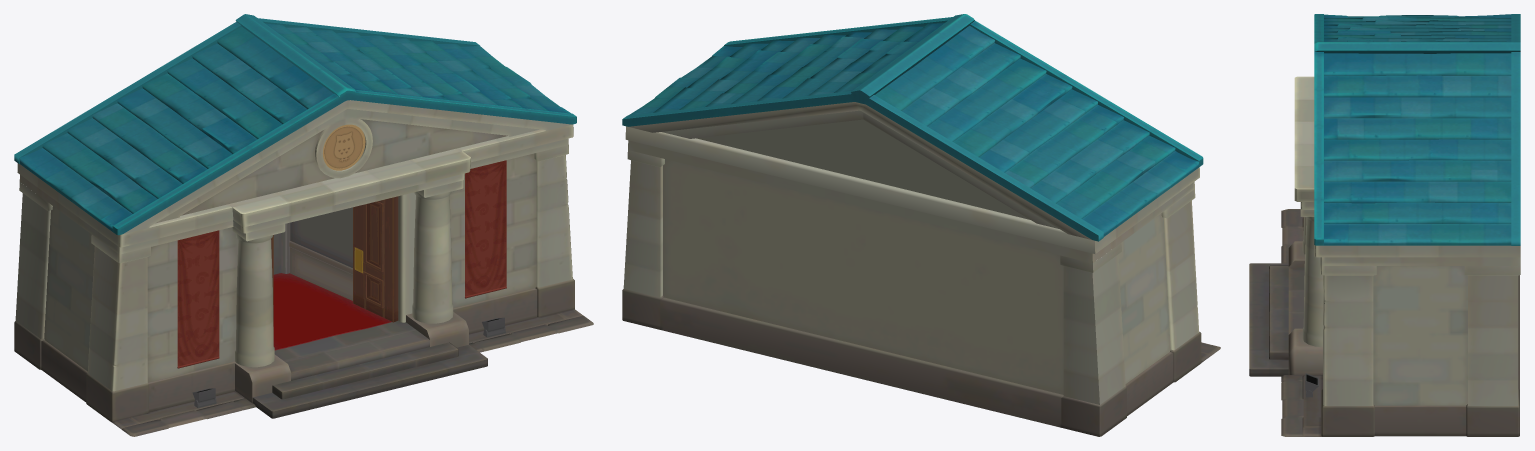
File: oracle-museum.glb
3 renders of one model, left to right at view 1: azimuth 30°, elevation 25°; view 2: azimuth 150°, elevation 25°; view 3: azimuth 270°, elevation 25°, orthographic. The views are drawn at different scales.
Visible parts, largest first — view 1: EdgeA_low__mWall, Left1_low__mRoof, CL1base__mLobby, Tapestry1_group1173_pCube1420__mTapestry, Mark_low__mMedallion, polySurface1169__mLight; view 2: EdgeA_low__mWall, Left1_low__mRoof; view 3: EdgeA_low__mWall, Left1_low__mRoof.
Boxes of the visible parts, left/top/right/bottom form: EdgeA_low__mWall: left=14, top=100, right=593, bottom=436; Left1_low__mRoof: left=14, top=14, right=576, bottom=235; CL1base__mLobby: left=271, top=196, right=398, bottom=350; Tapestry1_group1173_pCube1420__mTapestry: left=177, top=160, right=506, bottom=368; Mark_low__mMedallion: left=322, top=124, right=365, bottom=170; polySurface1169__mLight: left=192, top=317, right=505, bottom=407; EdgeA_low__mWall: left=622, top=102, right=1220, bottom=436; Left1_low__mRoof: left=622, top=14, right=1203, bottom=241; EdgeA_low__mWall: left=1249, top=76, right=1520, bottom=436; Left1_low__mRoof: left=1314, top=14, right=1520, bottom=245.
Size of the model in its own units: 67.58 by 38.94 by 34.13.
6 materials, 6 textured.
